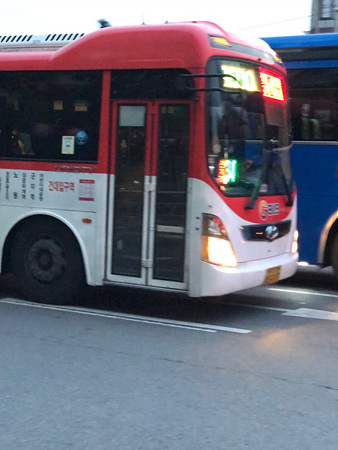entrance: (109, 93, 191, 293)
